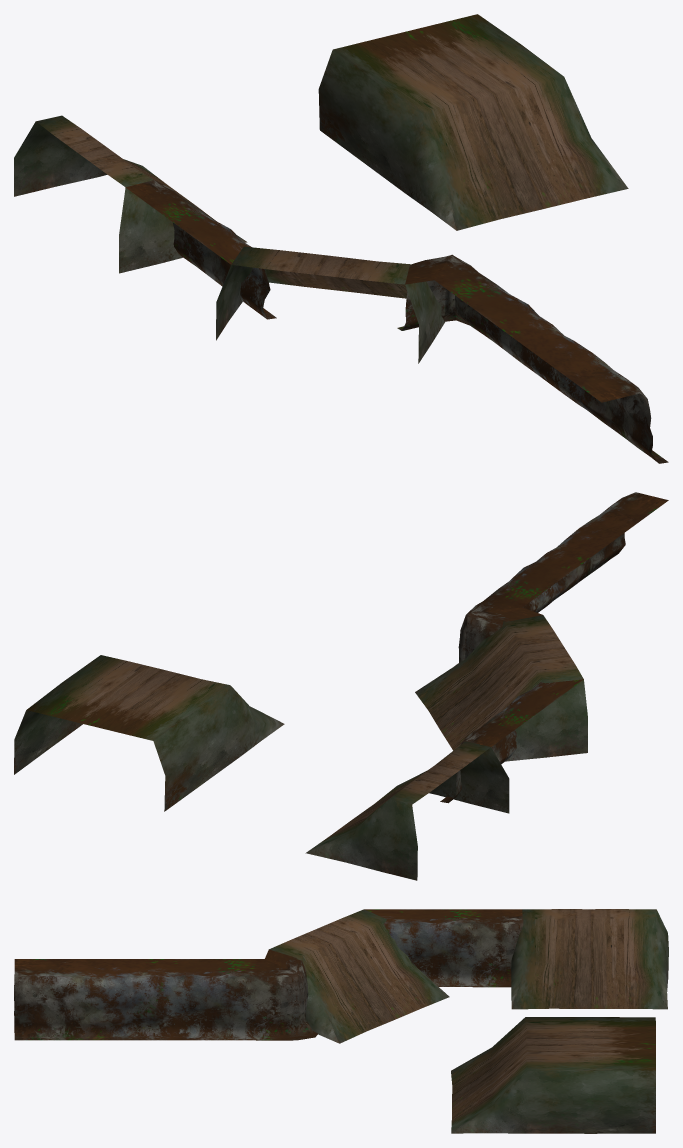
The model's file is Stage_Block_2_4.fbx.
3 views of the same model, one above another, from view 1: azimuth 30°, elevation 25°; view 2: azimuth 150°, elevation 25°; view 3: azimuth 270°, elevation 25° (orthographic). The views are drawn at different scales.
Visible parts, largest first — view 1: Stage_Block_2_4; view 2: Stage_Block_2_4; view 3: Stage_Block_2_4.
Boxes of the visible parts, x1,y1,x2,y2 form: Stage_Block_2_4: (14,14,668,463); Stage_Block_2_4: (14,492,668,880); Stage_Block_2_4: (14,909,668,1133).
Size of the model in its own units: 3165 by 500 by 5106.
2 materials, 2 textured.
